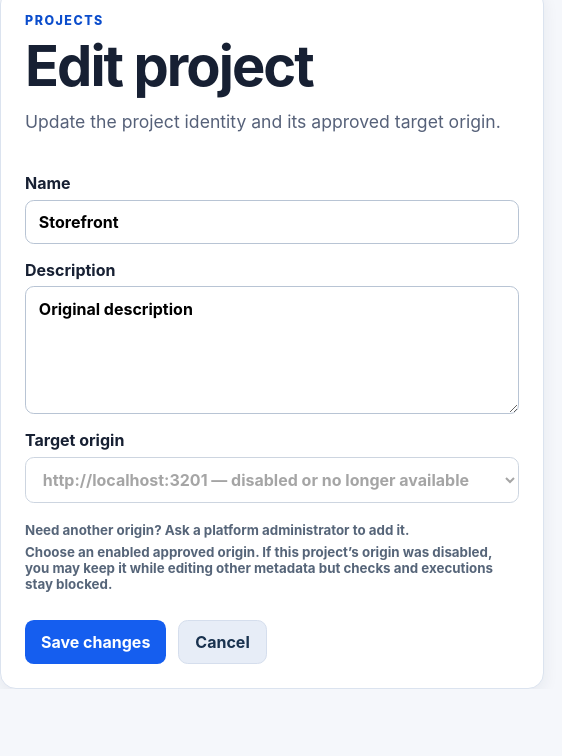
Test: EditProjectPage › disables editing and saving while the latest stale version is loading
The image size is (562, 756).
Replace the text in the field labelled "Name" with "Local edit". click: (272, 222)
box: [25, 200, 519, 244]
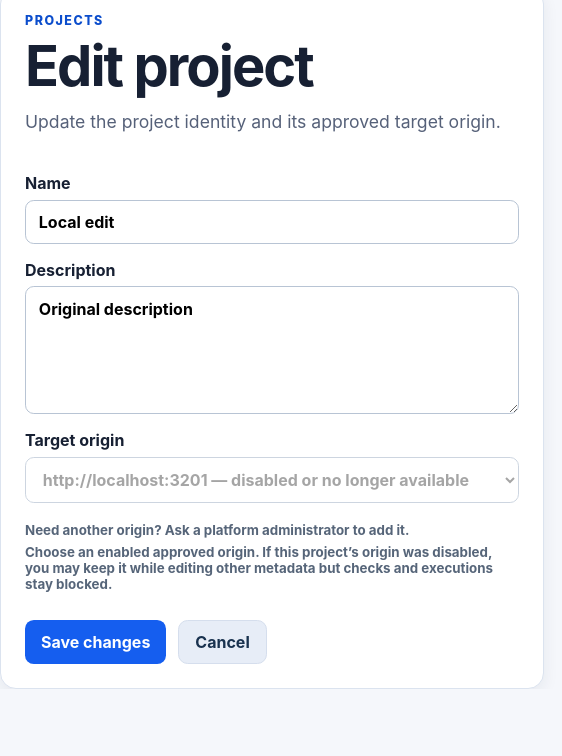
Click the button "Save changes". click: (96, 642)
box: [25, 620, 166, 664]
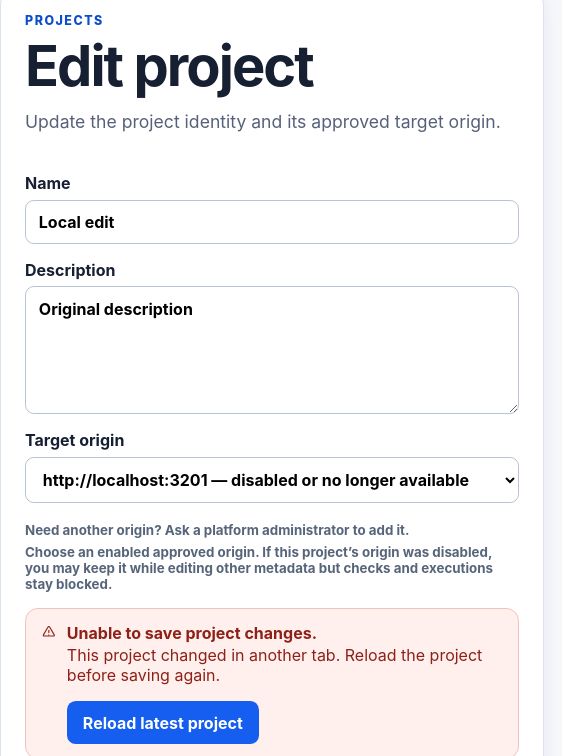
Click the button "Reload latest project". click: (163, 722)
box: [67, 701, 259, 744]
(page scrolled)
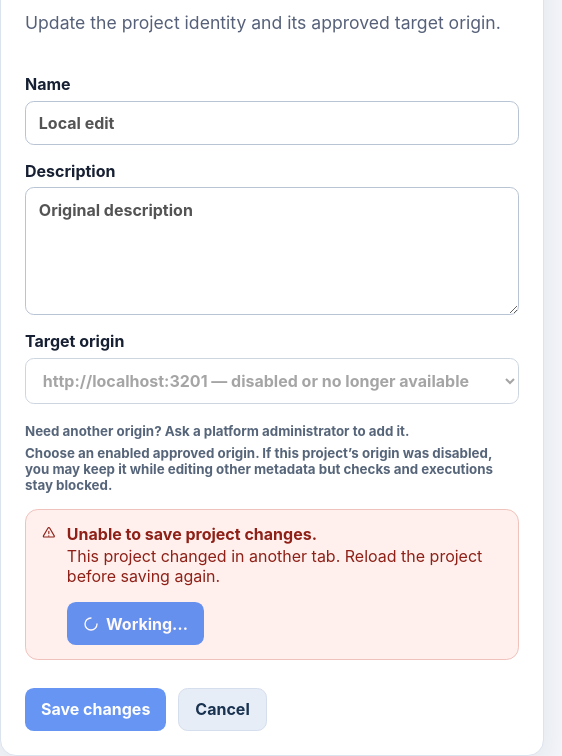
expect the button "Save changes" is disabled: met
expect the field labelled "Name" is disabled: met, box [25, 101, 519, 145]
Click the button "Save changes". click: (96, 710)
box: [25, 688, 166, 731]
(page scrolled)
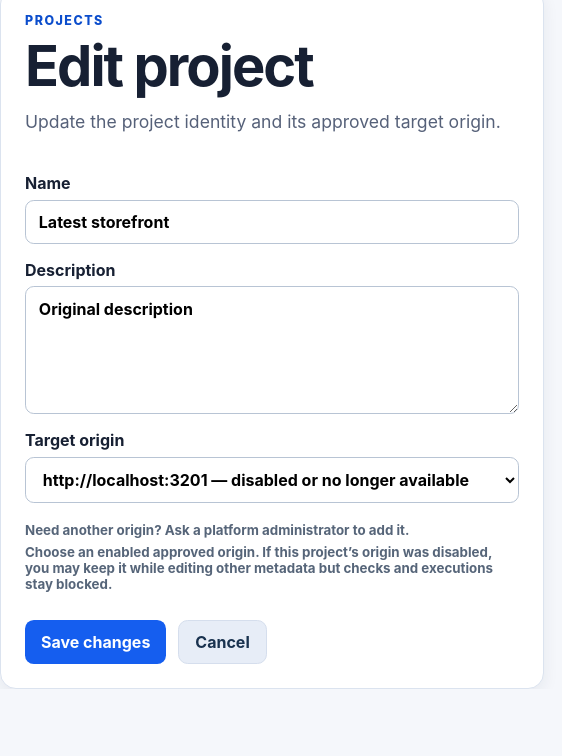
expect the field labelled "Name" holds "Latest storefront": met, box [25, 200, 519, 244]
expect the field labelled "Name" is enabled: met, box [25, 200, 519, 244]
expect the button "Save changes" is enabled: met, box [25, 620, 166, 664]
